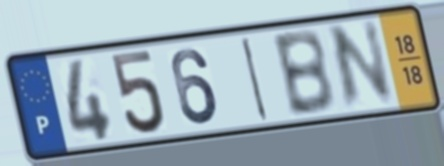4: (65, 56, 116, 144)
5: (107, 47, 168, 137)
6: (168, 47, 221, 127)
B: (269, 26, 338, 120)
I: (239, 33, 271, 124)
N: (326, 17, 398, 115)
